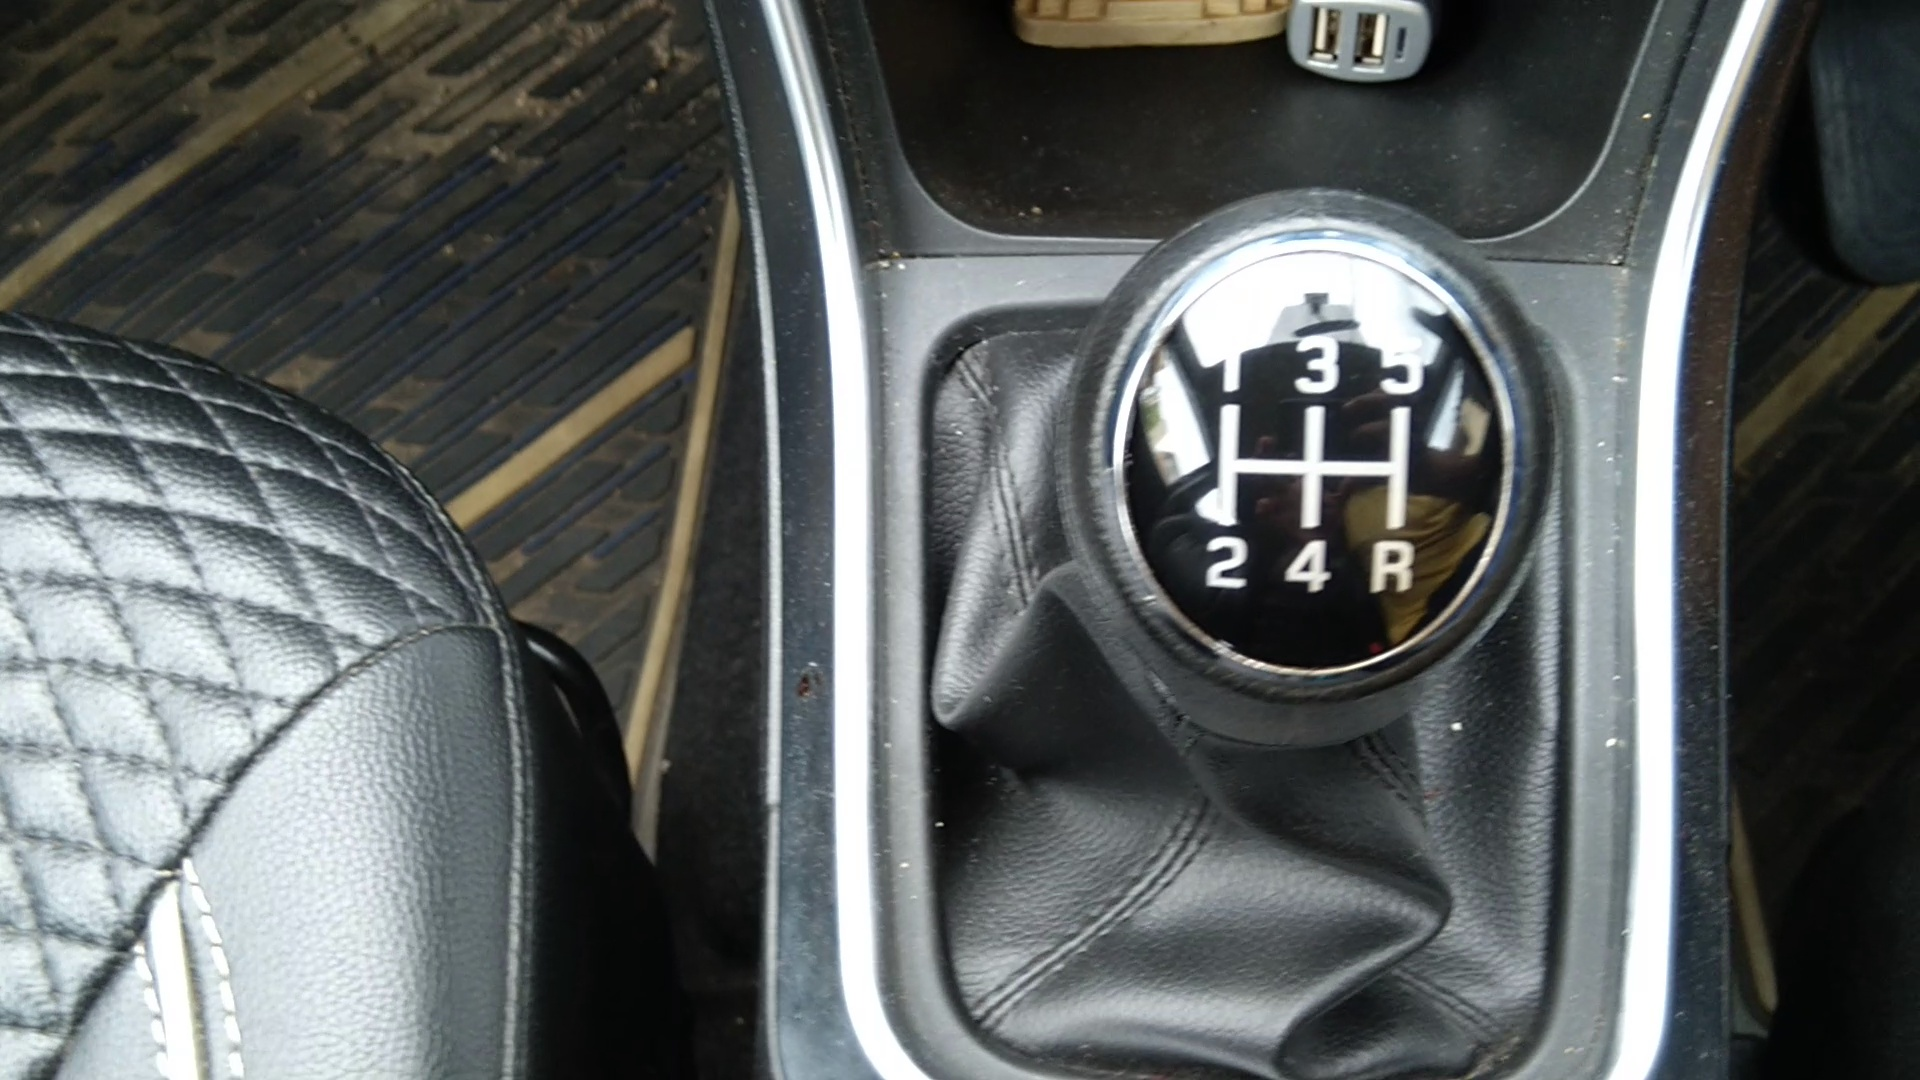manual_gear: (1064, 171, 1553, 782)
